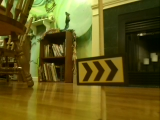right: (76, 58, 126, 84)
